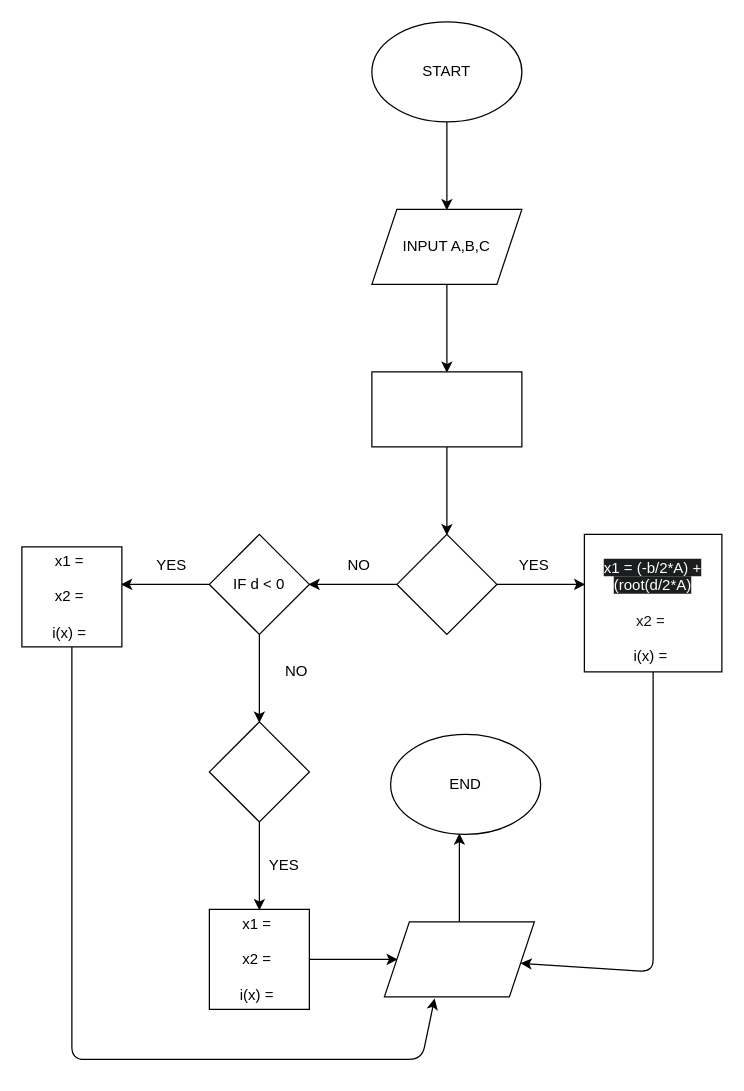
This 744x1091 diagram has some shape labels left out. The centre of each missing label's shape, as x and y in pixels:
d = (b*b) - 4*A*C x1 = 0 x2 = 0 i(x) = 0: the point at 446,409
IF d = 0: the point at 258,771
IF d > 0: the point at 446,583
OUTPUT x1, x2, i(x): the point at 458,959
